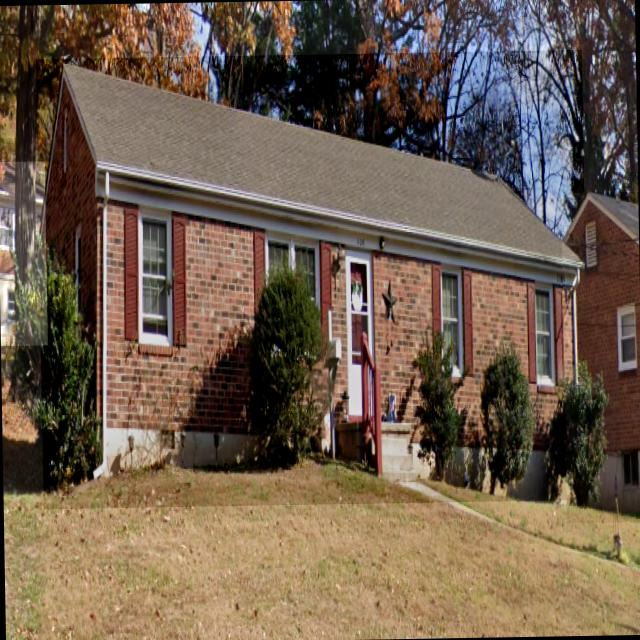House: (36, 49, 590, 508), (560, 192, 640, 523), (0, 160, 47, 345)
